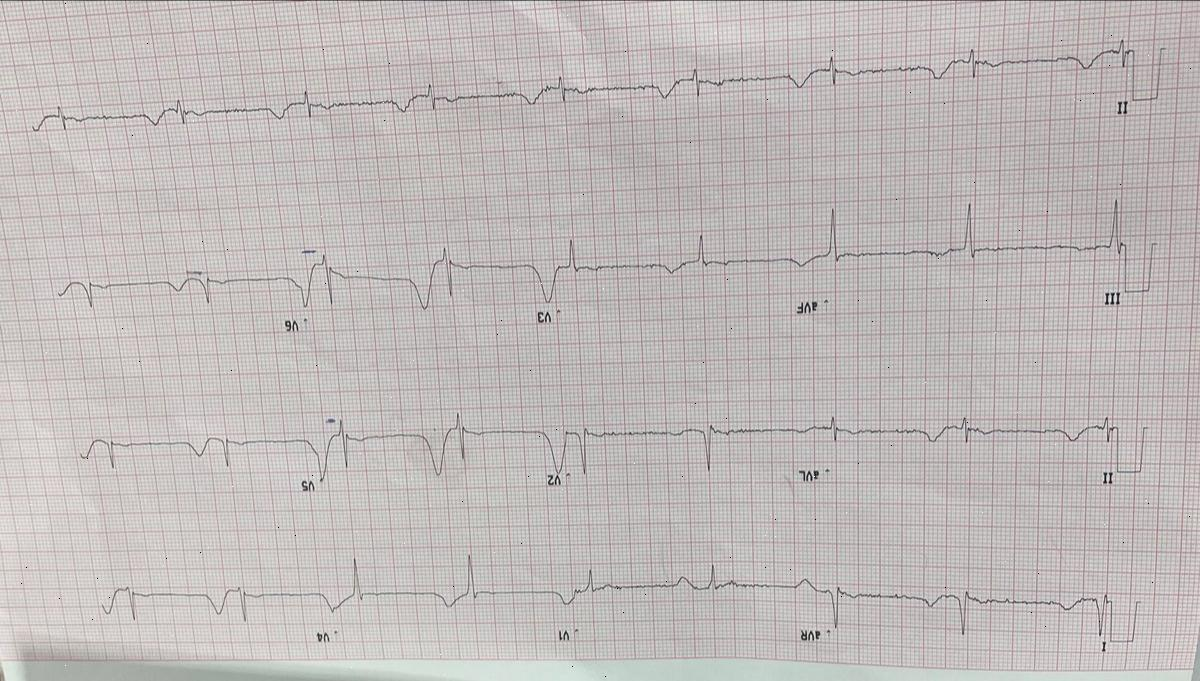Lead_I: (830, 566, 1116, 661)
Lead_II: (833, 394, 1121, 498)
Lead_III: (824, 188, 1128, 314)
Lead_II_ext: (17, 36, 1141, 134)
Lead_V1: (343, 533, 580, 654)
Lead_V2: (328, 390, 576, 505)
Lead_V3: (310, 228, 564, 338)
Lead_V4: (97, 544, 340, 660)
Lead_V5: (72, 404, 331, 506)
Lead_V6: (53, 248, 311, 346)
Lead_aVF: (563, 220, 828, 324)
Lead_aVL: (573, 399, 834, 499)
Lead_aVR: (580, 549, 835, 654)
